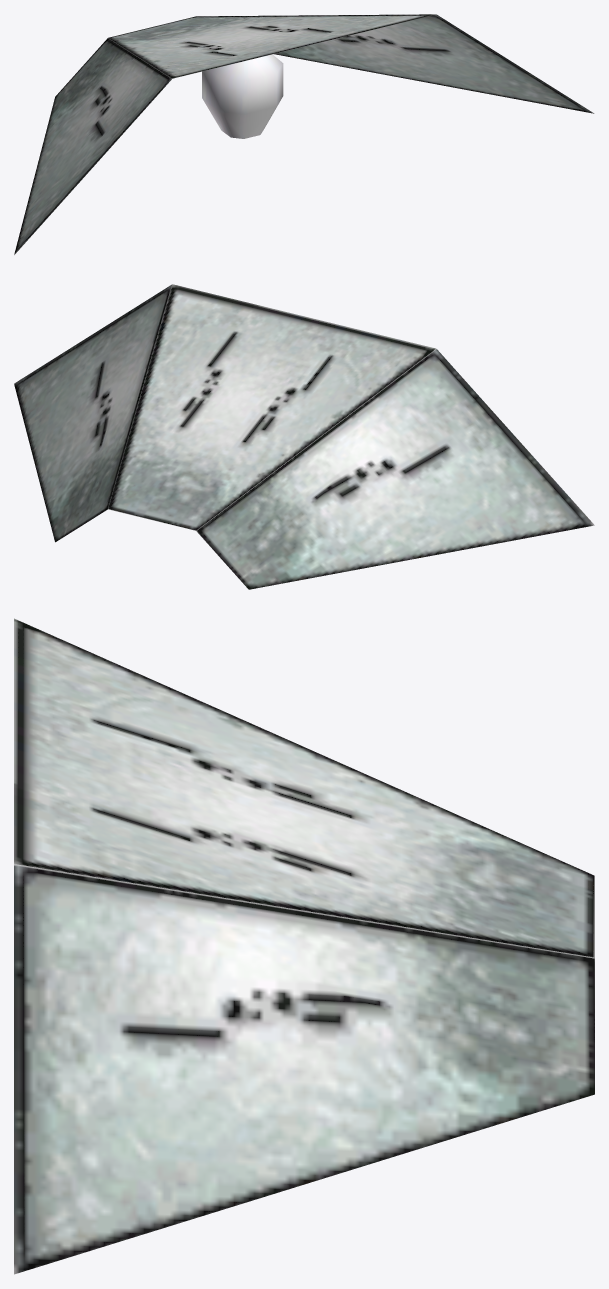
File: wall_sconce_var9.fbx
3 renders of one model, top to bottom at view 1: azimuth 30°, elevation 25°; view 2: azimuth 150°, elevation 25°; view 3: azimuth 270°, elevation 25°, orthographic. The views are drawn at different scales.
Visible parts, largest first — view 1: mesh_0, mesh_1; view 2: mesh_0; view 3: mesh_0.
Part boxes in pixels (x1,y1,x2,y2): mesh_0: [14, 14, 594, 254]; mesh_1: [202, 54, 283, 138]; mesh_0: [14, 284, 594, 589]; mesh_0: [14, 618, 594, 1274].
Size of the model in its own units: 66 by 15 by 30.
Materials: 2 (2 with a texture image).
